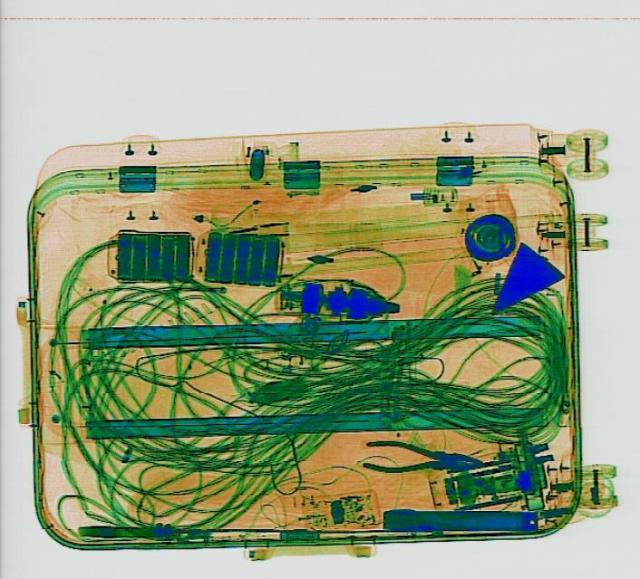Pliers: (360, 435, 482, 478)
